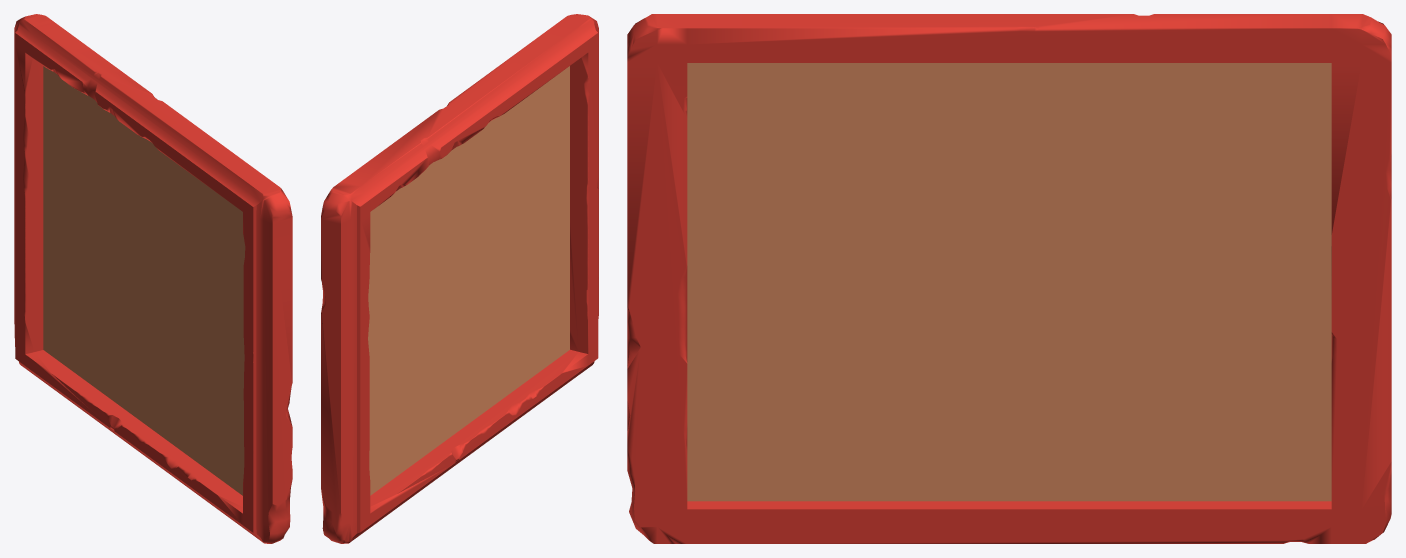
The model's file is Cuadro1.fbx.
3 renders of one model, left to right at view 1: azimuth 30°, elevation 25°; view 2: azimuth 150°, elevation 25°; view 3: azimuth 270°, elevation 25°, orthographic. The views are drawn at different scales.
Parts seen in each view (by area): view 1: Plane, Plane_dmg; view 2: Plane, Plane_dmg; view 3: Plane, Plane_dmg.
Part boxes in pixels (left/top/right/bottom): Plane: left=43, top=66, right=245, bottom=495; Plane_dmg: left=14, top=14, right=292, bottom=543; Plane: left=368, top=66, right=569, bottom=495; Plane_dmg: left=321, top=14, right=598, bottom=543; Plane: left=687, top=63, right=1331, bottom=501; Plane_dmg: left=627, top=14, right=1391, bottom=543.
Size of the model in its own units: 19.78 by 225 by 303.
